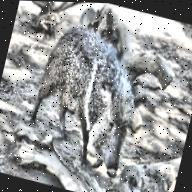boar: (16, 0, 184, 190)
